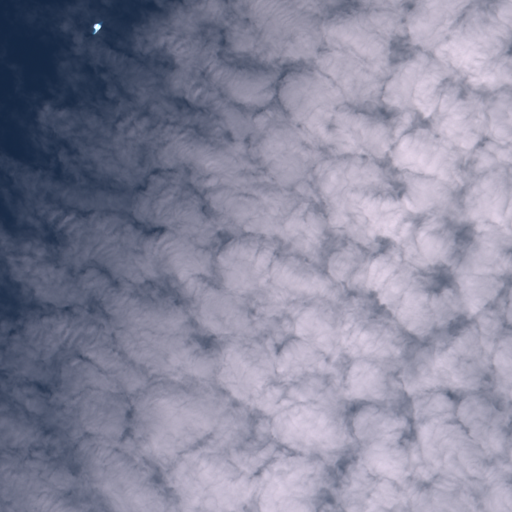Iceberg: (93, 23, 100, 34)
